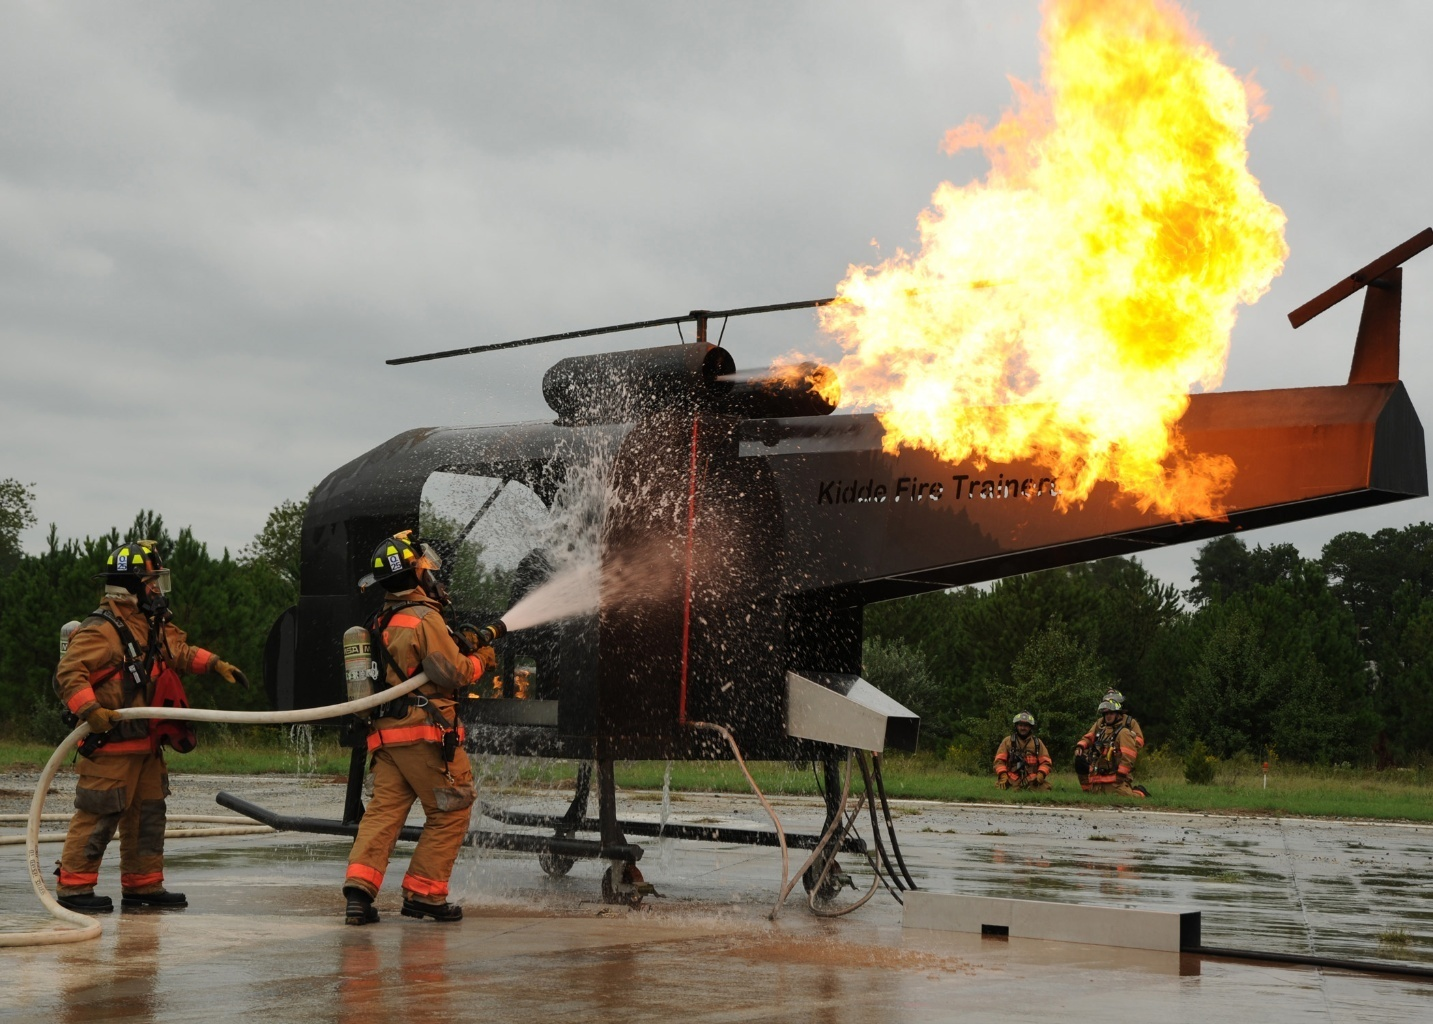fire: (787, 0, 1290, 519)
